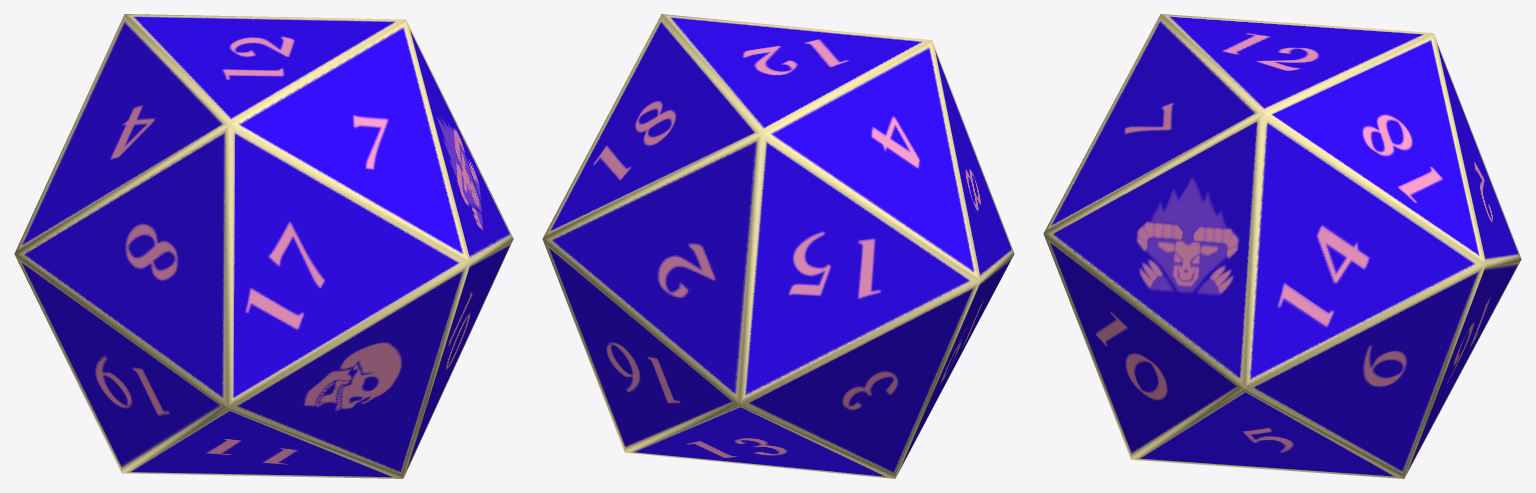
Rendered from d20 dice.fbx.
The picture shows the model from 3 angles, left to right: view 1: azimuth 30°, elevation 25°; view 2: azimuth 150°, elevation 25°; view 3: azimuth 270°, elevation 25°; orthographic projection. The views are drawn at different scales.
Visible parts, largest first — view 1: d20_bake; view 2: d20_bake; view 3: d20_bake.
Part boxes in pixels (bbox=[...]): d20_bake: bbox=[14, 14, 513, 478]; d20_bake: bbox=[542, 14, 1014, 478]; d20_bake: bbox=[1043, 14, 1521, 478].
Size of the model in its own units: 5.38 by 4.52 by 5.
Materials: 1 (1 with a texture image).
